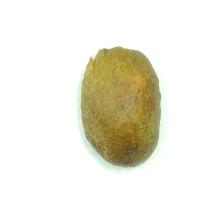NG: (85, 45, 136, 71), (118, 141, 144, 166)
